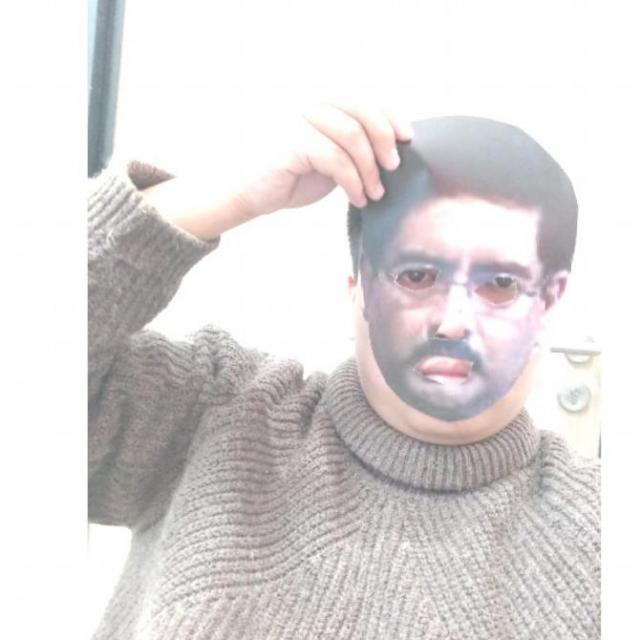mask: (352, 113, 580, 419)
